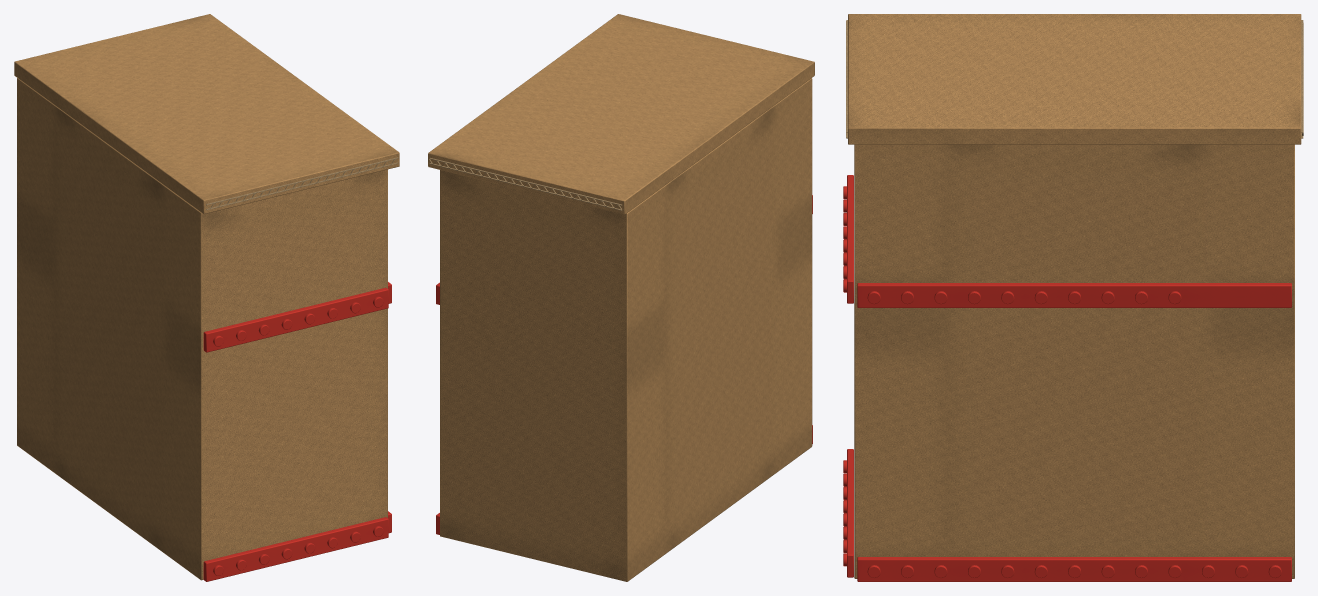
Rendered from 4-right-stand-box-1.fbx.
The picture shows the model from 3 angles, left to right: view 1: azimuth 30°, elevation 25°; view 2: azimuth 150°, elevation 25°; view 3: azimuth 270°, elevation 25°; orthographic projection. The views are drawn at different scales.
Visible parts, largest first — view 1: right-stand-box-1; view 2: right-stand-box-1; view 3: right-stand-box-1.
Boxes of the visible parts, x1,y1,x2,y2 form: right-stand-box-1: (14,14,399,581); right-stand-box-1: (428,14,814,581); right-stand-box-1: (843,14,1303,581).
Bounding box in the file's own units: 4300 × 8000 × 7307.
Materials: 1 (1 with a texture image).
